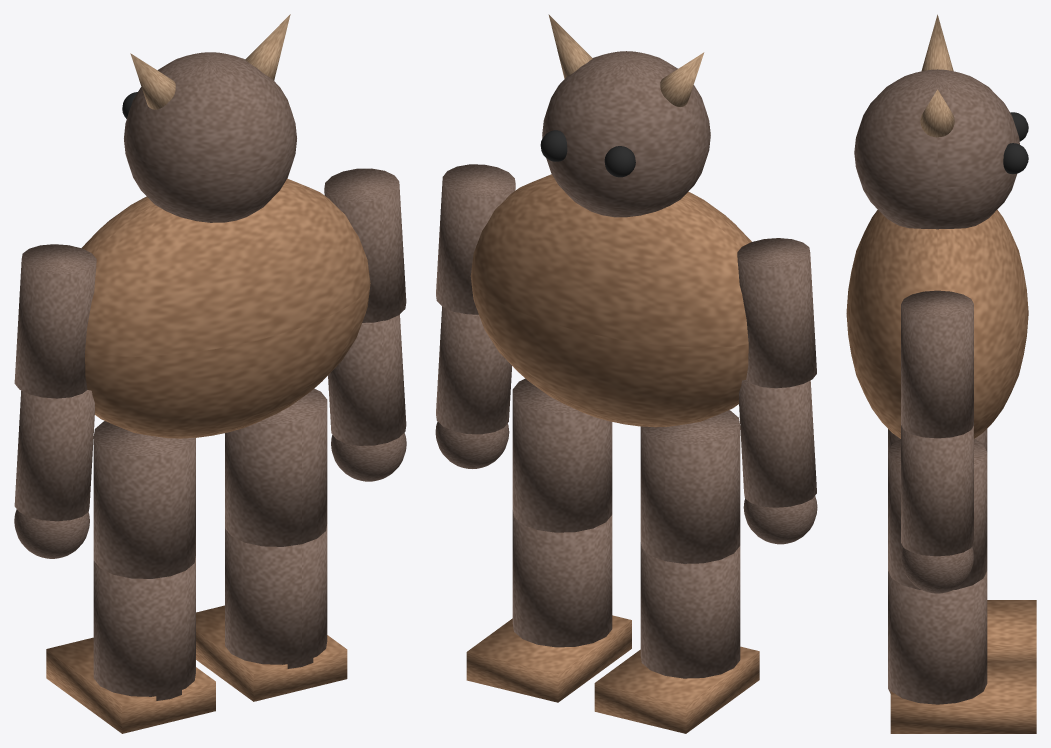
Rendered from taotie.glb.
The picture shows the model from 3 angles, left to right: view 1: azimuth 30°, elevation 25°; view 2: azimuth 150°, elevation 25°; view 3: azimuth 270°, elevation 25°; orthographic projection. The views are drawn at different scales.
Parts seen in each view (by area): view 1: Torso, Head, ThighL, ThighR, ShinR, ShinL, UpperArmL, ForearmL, ForearmR, UpperArmR, FootL, FootR (+4 smaller); view 2: Torso, Head, ThighL, ThighR, ShinL, ShinR, UpperArmL, ForearmL, FootL, FootR, ForearmR, UpperArmR (+6 smaller); view 3: Torso, Head, ShinR, UpperArmR, ForearmR, FootR, ThighR, FootL, HandR, Horn.001, Horn, Eye.001.
Part boxes in pixels (x1,y1,x2,y2): Torso: [81, 178, 370, 438]; Head: [124, 52, 296, 222]; ThighL: [93, 421, 195, 578]; ThighR: [225, 388, 327, 546]; ShinR: [225, 524, 327, 668]; ShinL: [93, 556, 195, 700]; UpperArmL: [14, 244, 96, 398]; ForearmL: [14, 390, 94, 521]; ForearmR: [328, 314, 406, 445]; UpperArmR: [324, 168, 406, 322]; FootL: [46, 637, 215, 733]; FootR: [196, 605, 347, 701]; Torso: [470, 174, 751, 427]; Head: [542, 51, 710, 217]; ThighL: [640, 410, 740, 563]; ThighR: [512, 378, 612, 532]; ShinL: [640, 542, 740, 678]; ShinR: [512, 510, 612, 647]; UpperArmL: [737, 238, 816, 388]; ForearmL: [739, 380, 816, 507]; FootL: [594, 646, 759, 733]; FootR: [466, 615, 631, 702]; ForearmR: [436, 306, 511, 434]; UpperArmR: [436, 164, 515, 314]; Torso: [846, 209, 1028, 438]; Head: [854, 69, 1019, 229]; ShinR: [888, 571, 987, 704]; UpperArmR: [901, 290, 973, 438]; ForearmR: [901, 425, 973, 556]; FootR: [890, 661, 1036, 733]; ThighR: [888, 439, 987, 589]; FootL: [987, 600, 1036, 661]; HandR: [901, 547, 973, 593]; Horn.001: [920, 89, 954, 137]; Horn: [921, 14, 953, 71]; Eye.001: [1003, 143, 1028, 174].
Size of the model in its own units: 0.5982 by 0.9793 by 0.2679.
4 materials, 3 textured.
